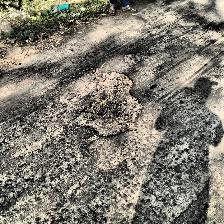pothole: (74, 68, 144, 138), (123, 52, 143, 66)
